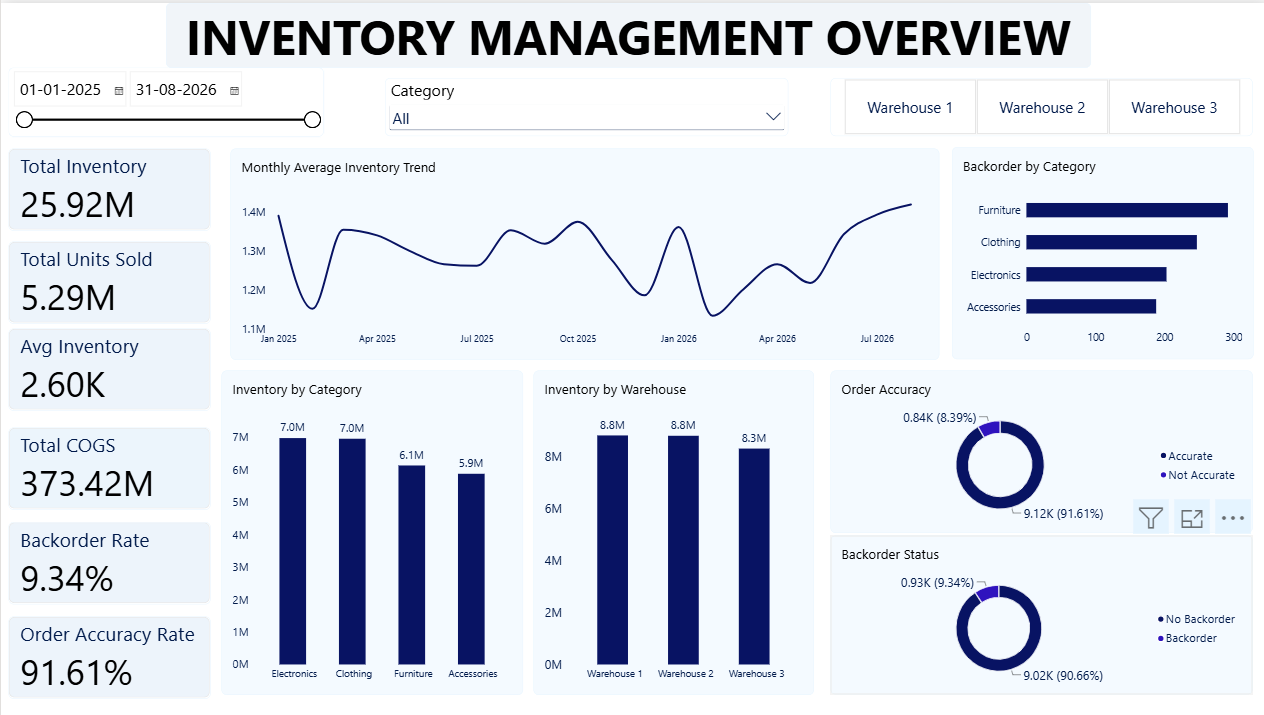

Layout of this report page (visuals, bound fields, positions):
{"tool":"powerbi","page":{"name":"Inventory Overview","canvas":[1920,1080],"ordinal":0},"visuals":[{"type":"cardVisual","fields":{"Data":["inventory_db inventory_analysis.Total Units Sold"]},"box":[11.9,360.3,306.1,124.7],"z":0},{"type":"cardVisual","fields":{"Data":["inventory_db inventory_analysis.Backorder Rate"]},"box":[11.9,785,306.1,124.7],"z":1000},{"type":"cardVisual","fields":{"Data":["inventory_db inventory_analysis.Total COGS"]},"box":[11.9,641.8,306.1,124.7],"z":2000},{"type":"cardVisual","fields":{"Data":["inventory_db inventory_analysis.Avg Inventory"]},"box":[11.9,493.9,306.1,124.7],"z":3000},{"type":"cardVisual","fields":{"Data":["inventory_db inventory_analysis.Order Accuracy Rate"]},"box":[11.9,928.1,306.1,124.7],"z":4000},{"type":"cardVisual","fields":{"Data":["inventory_db inventory_analysis.Total Inventory"]},"box":[11.9,219.5,306.1,124.7],"z":5000},{"type":"lineChart","title":"Monthly Average Inventory Trend","fields":{"Category":["inventory_db inventory_analysis.Date.Variation.Date Hierarchy.Year","inventory_db inventory_analysis.Date.Variation.Date Hierarchy.Month"],"Y":["Sum(inventory_db inventory_analysis.Inventory Level)"]},"box":[348.3,219.5,1073.7,319.7],"z":6000},{"type":"clusteredColumnChart","title":"Inventory by Category","fields":{"Category":["inventory_db inventory_analysis.Category"],"Y":["Sum(inventory_db inventory_analysis.Inventory Level)"]},"box":[333.1,556.7,456.5,491.5],"z":7000},{"type":"clusteredColumnChart","title":"Inventory by Warehouse","fields":{"Category":["inventory_db inventory_analysis.Warehouse"],"Y":["Sum(inventory_db inventory_analysis.Inventory Level)"]},"box":[806.4,555.9,424.7,491.5],"z":8000},{"type":"clusteredBarChart","title":"Backorder by Category","fields":{"Category":["inventory_db inventory_analysis.Category"],"Y":["Sum(inventory_db inventory_analysis.Backorder)"]},"box":[1439.4,218.9,456.5,321.4],"z":9000},{"type":"donutChart","title":"Order Accuracy","fields":{"Category":["inventory_db inventory_analysis.Accuracy Status"],"Y":["CountNonNull(inventory_db inventory_analysis.Order Accuracy)"]},"box":[1255,555.9,639.4,245.7],"z":10000},{"type":"donutChart","title":"Backorder Status","fields":{"Category":["inventory_db inventory_analysis.Backorder Status"],"Y":["CountNonNull(inventory_db inventory_analysis.Backorder)"]},"box":[1255,806.4,639.4,241],"z":11000},{"type":"textbox","box":[250.5,0,1400.5,97.8],"z":12000},{"type":"slicer","fields":{"Values":["inventory_db inventory_analysis.Date"]},"box":[11.9,97.8,477.2,105],"z":13000},{"type":"slicer","fields":{"Values":["inventory_db inventory_analysis.Category"]},"box":[582.2,114.5,610.8,88.3],"z":14000},{"type":"slicer","fields":{"Values":["inventory_db inventory_analysis.Warehouse"]},"box":[1255,114.5,639.4,88.3],"z":15000}]}

Visuals, with their boxes in screenshot pixels (x1, y1, x2, y2), scaled from the page's 1920x1080 canvas onto the 1264x715 screenshot:
cardVisual - inventory_db inventory_analysis.Total Units Sold: (left=8, top=239, right=209, bottom=321)
cardVisual - inventory_db inventory_analysis.Backorder Rate: (left=8, top=520, right=209, bottom=602)
cardVisual - inventory_db inventory_analysis.Total COGS: (left=8, top=425, right=209, bottom=507)
cardVisual - inventory_db inventory_analysis.Avg Inventory: (left=8, top=327, right=209, bottom=410)
cardVisual - inventory_db inventory_analysis.Order Accuracy Rate: (left=8, top=614, right=209, bottom=697)
cardVisual - inventory_db inventory_analysis.Total Inventory: (left=8, top=145, right=209, bottom=228)
"Monthly Average Inventory Trend" lineChart: (left=229, top=145, right=936, bottom=357)
"Inventory by Category" clusteredColumnChart: (left=219, top=369, right=520, bottom=694)
"Inventory by Warehouse" clusteredColumnChart: (left=531, top=368, right=810, bottom=693)
"Backorder by Category" clusteredBarChart: (left=948, top=145, right=1248, bottom=358)
"Order Accuracy" donutChart: (left=826, top=368, right=1247, bottom=531)
"Backorder Status" donutChart: (left=826, top=534, right=1247, bottom=693)
textbox: (left=165, top=0, right=1087, bottom=65)
slicer - inventory_db inventory_analysis.Date: (left=8, top=65, right=322, bottom=134)
slicer - inventory_db inventory_analysis.Category: (left=383, top=76, right=785, bottom=134)
slicer - inventory_db inventory_analysis.Warehouse: (left=826, top=76, right=1247, bottom=134)
